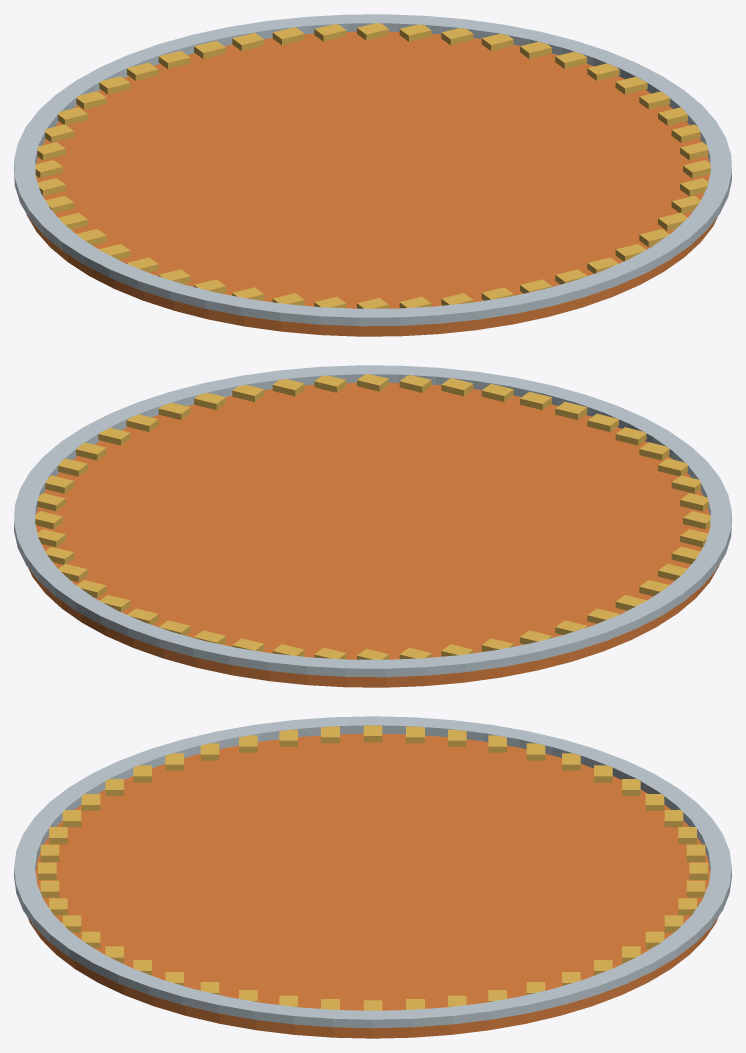
The model's file is 05_L76_ConductiveBarrierSeedLayer.fbx.
3 renders of one model, top to bottom at view 1: azimuth 30°, elevation 25°; view 2: azimuth 150°, elevation 25°; view 3: azimuth 270°, elevation 25°, orthographic.
Parts seen in each view (by area): view 1: ConductiveBarrierSeedLayer; view 2: ConductiveBarrierSeedLayer; view 3: ConductiveBarrierSeedLayer.
Part boxes in pixels (x1,y1,x2,y2): ConductiveBarrierSeedLayer: (14,14,731,336); ConductiveBarrierSeedLayer: (14,365,731,687); ConductiveBarrierSeedLayer: (14,716,731,1038).
Size of the model in its own units: 192 by 6.45 by 192.
